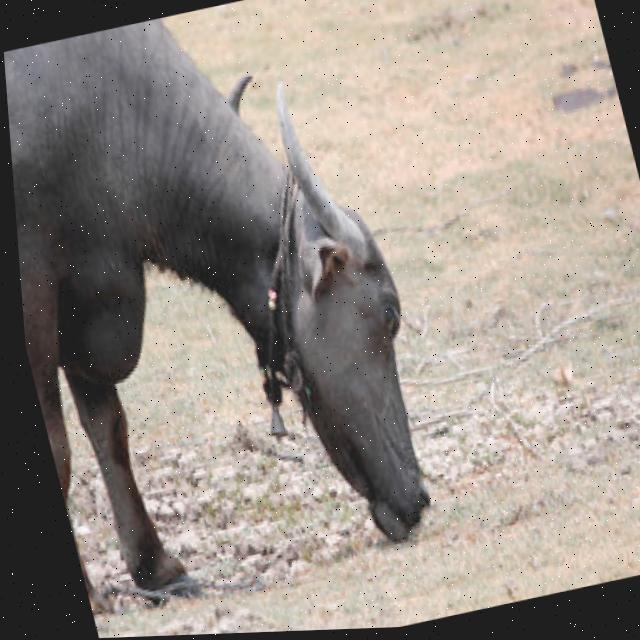Buffalo: (0, 0, 467, 619)
